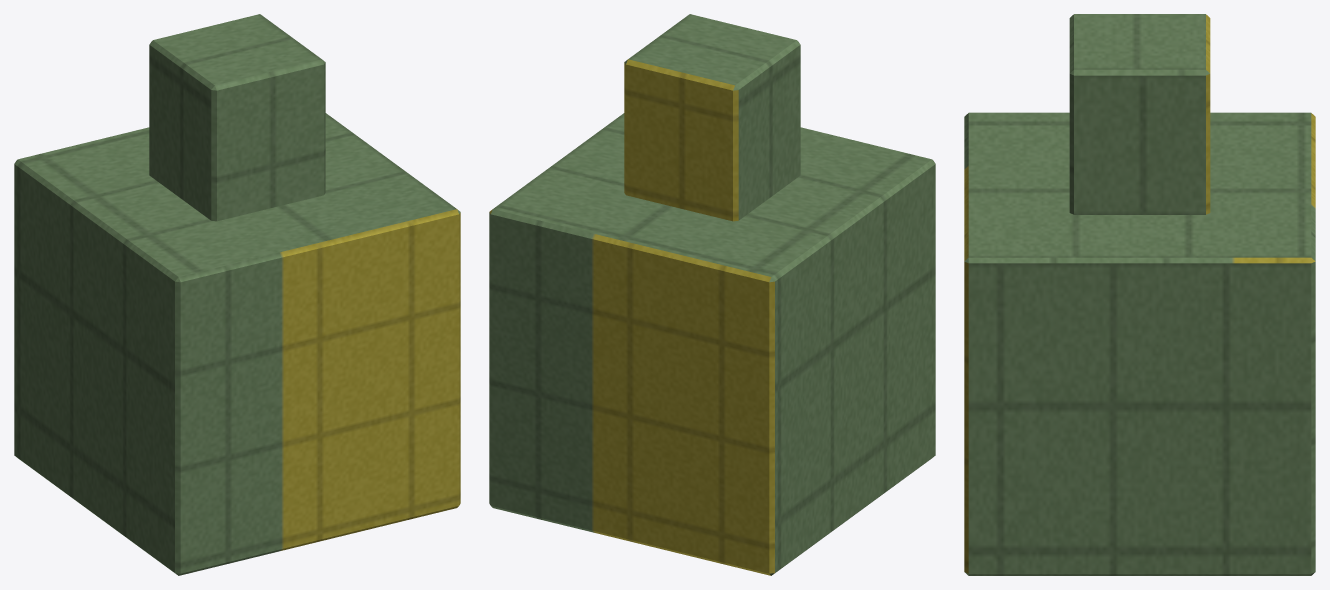
File: power_plant.glb
3 renders of one model, left to right at view 1: azimuth 30°, elevation 25°; view 2: azimuth 150°, elevation 25°; view 3: azimuth 270°, elevation 25°, orthographic. The views are drawn at different scales.
Visible parts, largest first — view 1: power_plant; view 2: power_plant; view 3: power_plant.
Boxes of the visible parts, box(x1,y1,x2,y2) form: power_plant: box(14, 14, 460, 575); power_plant: box(489, 14, 935, 575); power_plant: box(964, 14, 1315, 575).
Bounding box in the file's own units: 0.8 × 1.16 × 0.8.
1 material, 1 textured.
